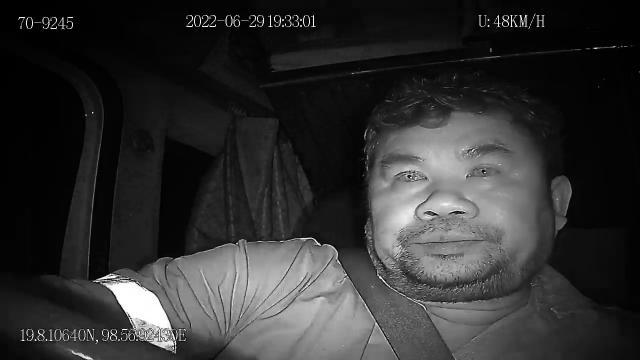SafeDriving: (460, 151, 510, 186), (383, 158, 436, 190)
Seatbelt: (334, 250, 458, 360)
